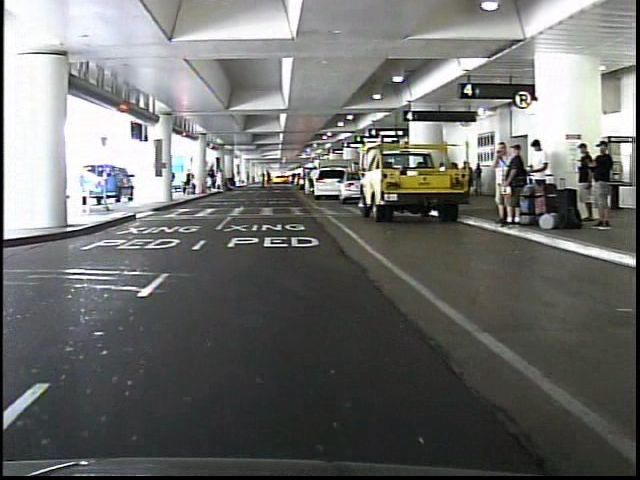person: (589, 140, 611, 230), (484, 141, 506, 223), (209, 164, 225, 198), (304, 165, 320, 199)
